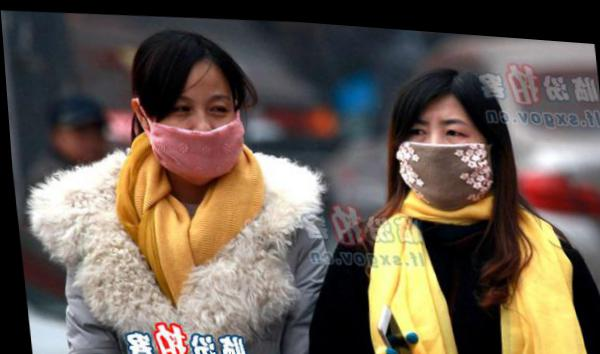OK: (391, 97, 493, 211)
WRONG: (144, 75, 243, 186)
